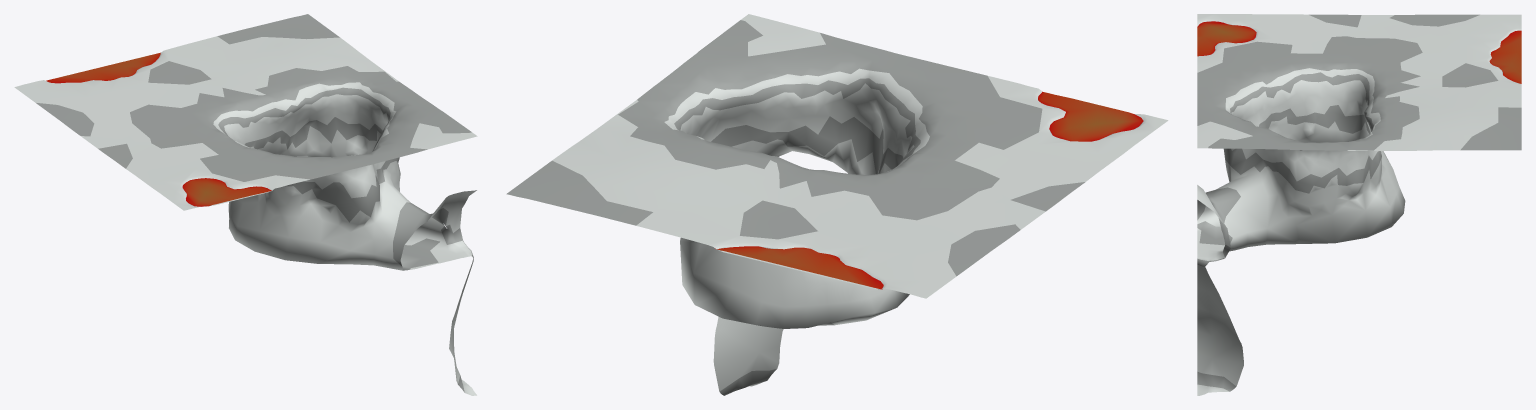
3 views of the same model, side by side, from view 1: azimuth 30°, elevation 25°; view 2: azimuth 150°, elevation 25°; view 3: azimuth 270°, elevation 25° (orthographic). The views are drawn at different scales.
Visible parts, largest first — view 1: G:\FFXIV-MapTools\exports\r2f1\bg\ex1\01_roc_r2\fld\r2f1\bgp (×8); view 2: G:\FFXIV-MapTools\exports\r2f1\bg\ex1\01_roc_r2\fld\r2f1\bgp (×8); view 3: G:\FFXIV-MapTools\exports\r2f1\bg\ex1\01_roc_r2\fld\r2f1\bgp (×8).
Boxes of the visible parts, bbox=[...] form: G:\FFXIV-MapTools\exports\r2f1\bg\ex1\01_roc_r2\fld\r2f1\bgp (×8): bbox=[14, 14, 477, 395]; G:\FFXIV-MapTools\exports\r2f1\bg\ex1\01_roc_r2\fld\r2f1\bgp (×8): bbox=[506, 14, 1168, 395]; G:\FFXIV-MapTools\exports\r2f1\bg\ex1\01_roc_r2\fld\r2f1\bgp (×8): bbox=[1197, 14, 1521, 395].
Size of the model in its own units: 128 by 108 by 128.
